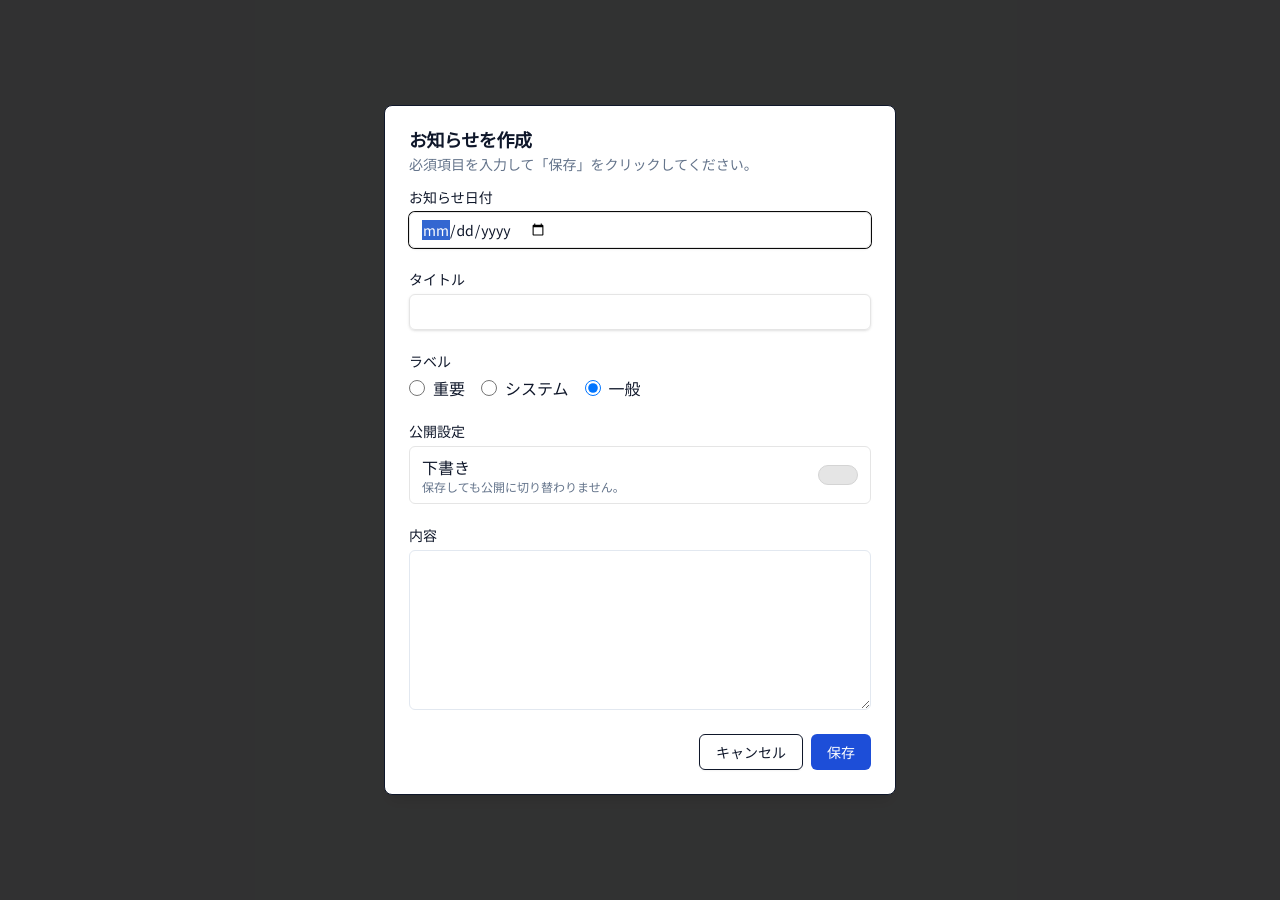
it: NewsFormModal › 未入力で送信するとバリデーションエラーを表示する
Click the button "保存": coordinates (841, 752) [811,734,871,770]
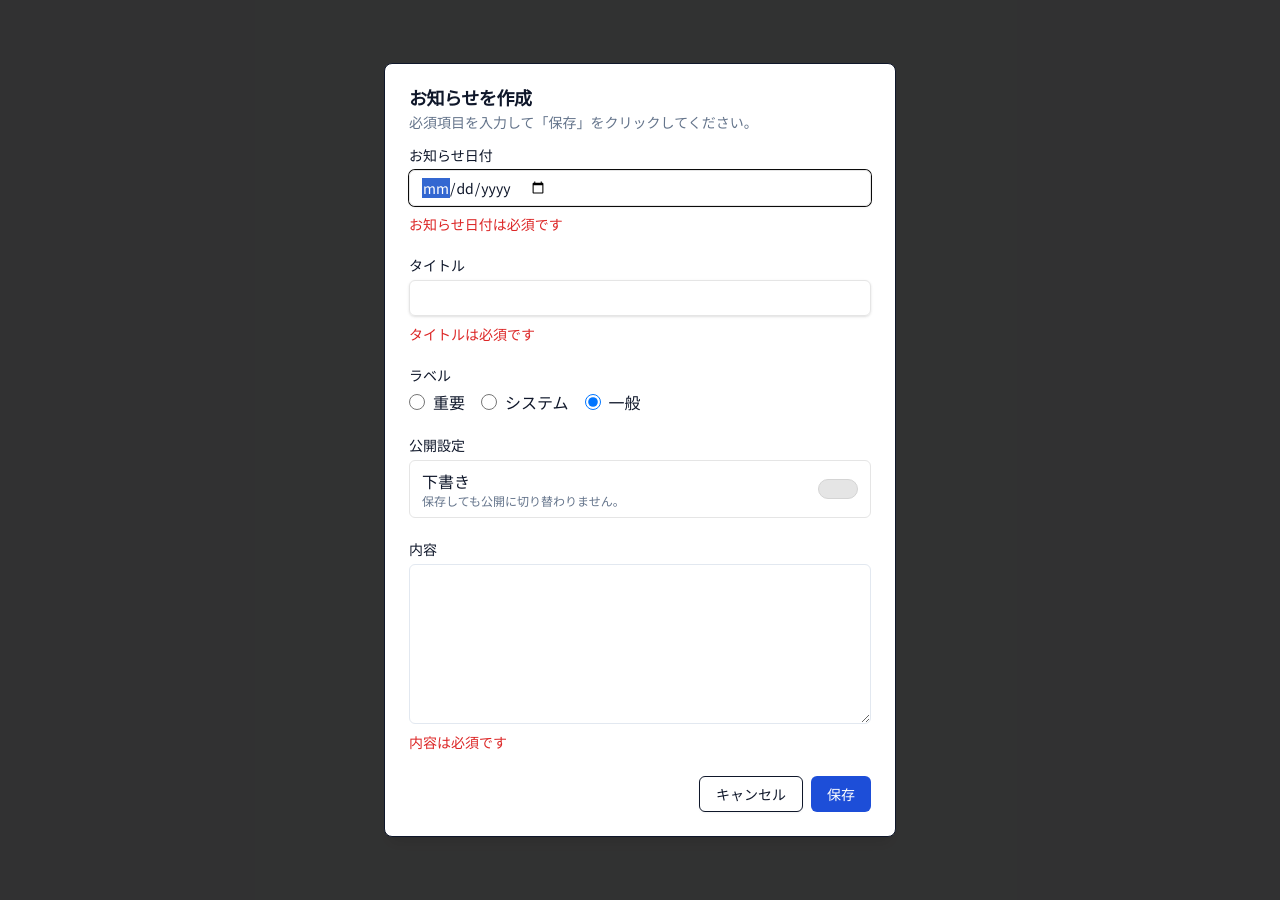
Result: the text "内容は必須です" is shown at [409,732,507,752]
Result: the text "タイトルは必須です" is shown at [409,324,535,344]
